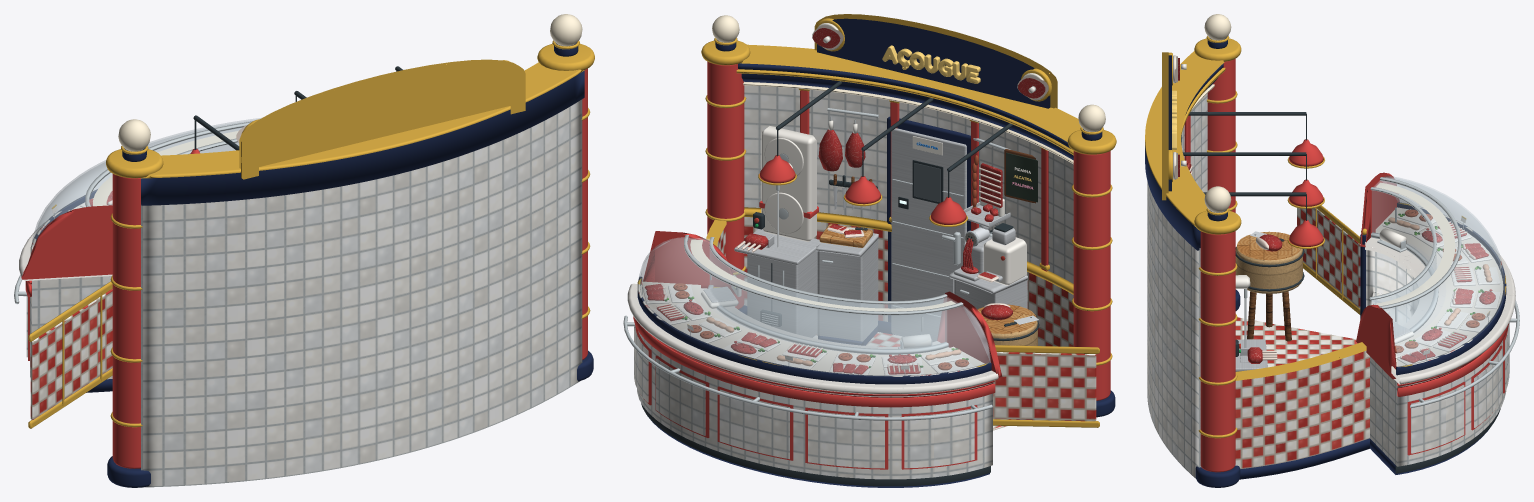
Rendered from sector-acougue.fbx.
3 renders of one model, left to right at view 1: azimuth 30°, elevation 25°; view 2: azimuth 150°, elevation 25°; view 3: azimuth 270°, elevation 25°, orthographic. The views are drawn at different scales.
Visible parts, largest first — view 1: Body; view 2: Body, Anim Fill 0, Anim Fill 1, Anim Fill 2, Anim Fill 3; view 3: Body, Anim Fill 1, Anim Fill 0, Anim Fill 2, Anim Fill 3.
Part boxes in pixels (x1=…): Body: x1=14, y1=14, x2=594, y2=487; Body: x1=623, y1=14, x2=1116, y2=487; Anim Fill 0: x1=641, y1=280, x2=711, y2=325; Anim Fill 1: x1=681, y1=317, x2=780, y2=358; Anim Fill 2: x1=774, y1=342, x2=875, y2=375; Anim Fill 3: x1=882, y1=348, x2=973, y2=375; Body: x1=1145, y1=14, x2=1519, y2=487; Anim Fill 1: x1=1436, y1=288, x2=1500, y2=332; Anim Fill 0: x1=1395, y1=326, x2=1471, y2=364; Anim Fill 2: x1=1436, y1=243, x2=1501, y2=286; Anim Fill 3: x1=1382, y1=209, x2=1471, y2=247.
Size of the model in its own units: 4.33 by 3 by 3.35.
